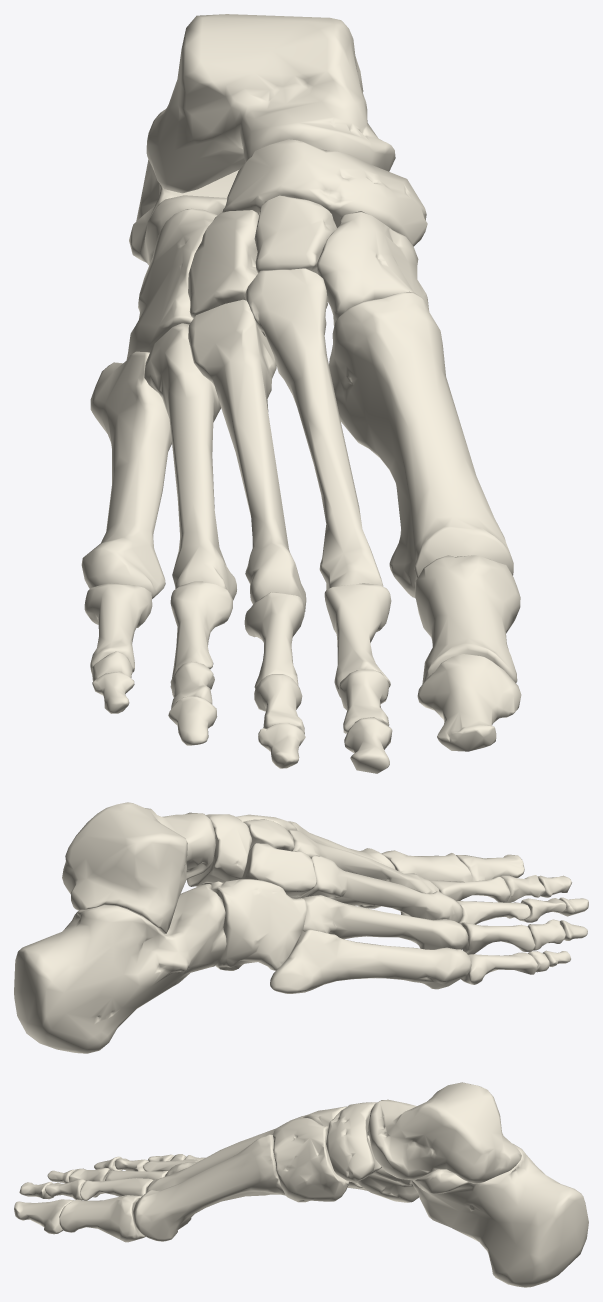
File: right-foot-26-bones-0ehn3TqQ.glb
3 views of the same model, one above another, from view 1: azimuth 30°, elevation 25°; view 2: azimuth 150°, elevation 25°; view 3: azimuth 270°, elevation 25° (orthographic). The views are drawn at different scales.
Visible parts, largest first — view 1: FMA24482, FMA24507, FMA24509, FMA24511, FMA24515, FMA24513, FMA24500, FMA43253, FMA24521, FMA32650, FMA24528, FMA24525 (+13 smaller); view 2: FMA24497, FMA24482, FMA24515, FMA24528, FMA24513, FMA24511, FMA24525, FMA24500, FMA24509, FMA43253, FMA32638, FMA32640 (+12 smaller); view 3: FMA24497, FMA24482, FMA24507, FMA24521, FMA24500, FMA43253, FMA24509, FMA24528, FMA32650, FMA32634, FMA32642, FMA32636 (+5 smaller).
Part boxes in pixels (<box>): FMA24482: <box>146,14,395,193</box>; FMA24507: <box>329,291,513,598</box>; FMA24509: <box>244,268,383,589</box>; FMA24511: <box>188,299,306,611</box>; FMA24515: <box>81,351,171,598</box>; FMA24513: <box>144,323,236,600</box>; FMA24500: <box>222,139,427,246</box>; FMA43253: <box>415,555,520,684</box>; FMA24521: <box>317,211,429,325</box>; FMA32650: <box>417,654,521,751</box>; FMA24528: <box>126,208,217,360</box>; FMA24525: <box>188,210,265,336</box>; FMA24497: <box>14,884,226,1053</box>; FMA24482: <box>62,802,215,933</box>; FMA24515: <box>270,929,471,993</box>; FMA24528: <box>211,879,306,970</box>; FMA24513: <box>302,895,468,949</box>; FMA24511: <box>291,855,462,922</box>; FMA24525: <box>241,843,316,897</box>; FMA24500: <box>186,814,252,886</box>; FMA24509: <box>287,829,439,916</box>; FMA43253: <box>381,850,471,881</box>; FMA32638: <box>459,922,535,954</box>; FMA32640: <box>461,952,537,984</box>; FMA24497: <box>411,1143,588,1287</box>; FMA24482: <box>368,1082,521,1183</box>; FMA24507: <box>133,1134,285,1241</box>; FMA24521: <box>273,1117,349,1202</box>; FMA24500: <box>326,1102,381,1181</box>; FMA43253: <box>59,1195,145,1242</box>; FMA24509: <box>146,1115,305,1192</box>; FMA24528: <box>350,1167,418,1202</box>; FMA32650: <box>14,1199,73,1234</box>; FMA32634: <box>80,1178,153,1200</box>; FMA32642: <box>45,1179,85,1200</box>; FMA32636: <box>105,1170,168,1180</box>.
Bounding box in the file's own units: 0.1245 × 0.0735 × 0.212.
